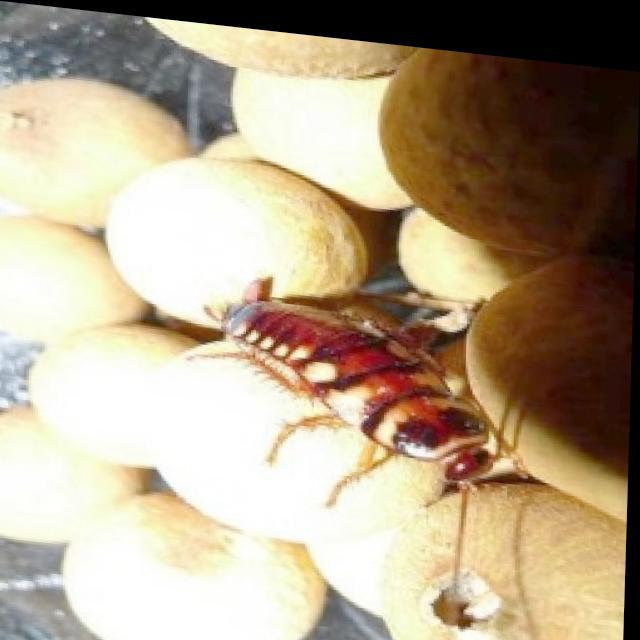cockroach: (198, 257, 496, 505)
